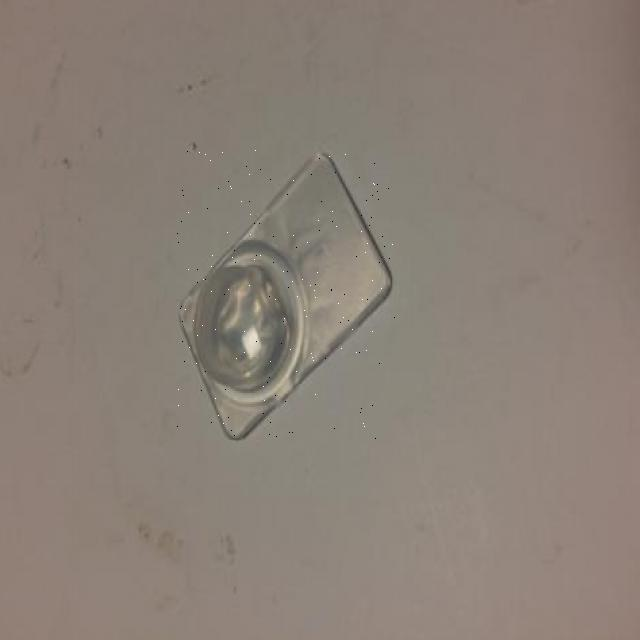metal: (177, 148, 395, 439)
